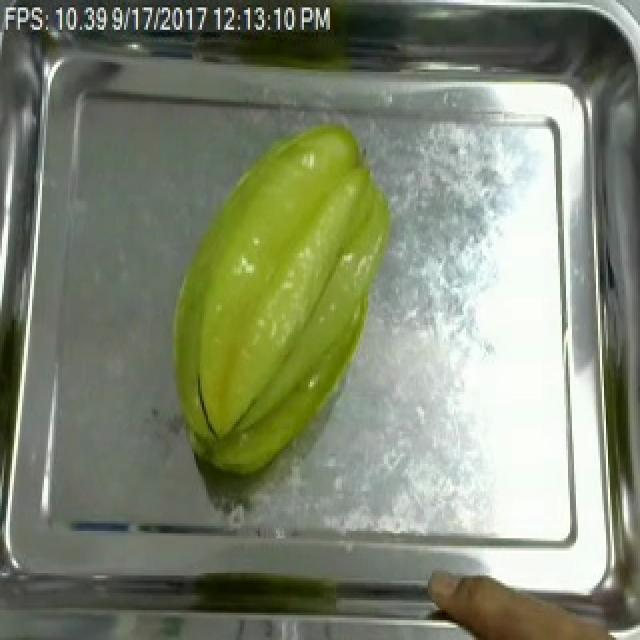fruit: (158, 106, 402, 478), (420, 555, 636, 640)
